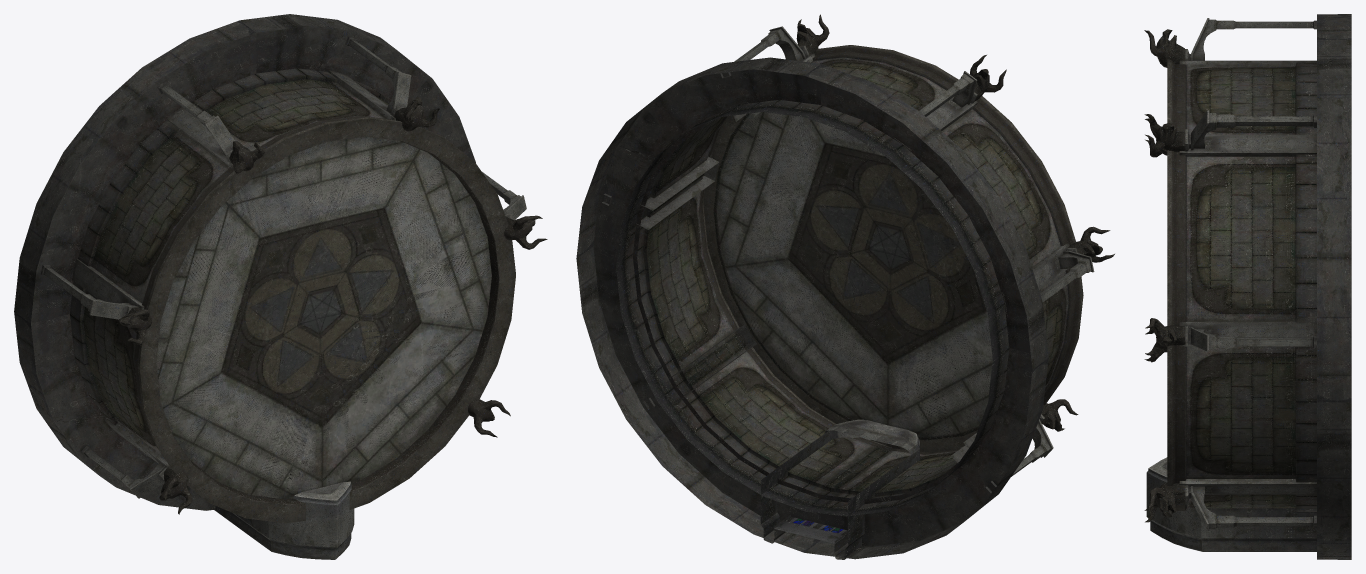
Rendered from pedestal.obj.
3 views of the same model, side by side, from view 1: azimuth 30°, elevation 25°; view 2: azimuth 150°, elevation 25°; view 3: azimuth 270°, elevation 25° (orthographic). The views are drawn at different scales.
Visible parts, largest first — view 1: obj5, obj17, obj3, obj2, obj19, obj16, obj13, obj12, obj22, obj1, obj23, obj11 (+6 smaller); view 2: obj17, obj5, obj3, obj2, obj20, obj16, obj12, obj4, obj13, obj19, obj22, obj1 (+3 smaller); view 3: obj17, obj3, obj2, obj23, obj20, obj21, obj12, obj14, obj15, obj13, obj8, obj11 (+3 smaller).
Boxes of the visible parts, left/top/right/bottom form: obj5: left=156, top=136, right=491, bottom=499; obj17: left=70, top=68, right=515, bottom=523; obj3: left=14, top=14, right=475, bottom=510; obj2: left=214, top=481, right=354, bottom=559; obj19: left=72, top=259, right=144, bottom=309; obj16: left=41, top=265, right=138, bottom=319; obj13: left=157, top=81, right=234, bottom=162; obj12: left=345, top=36, right=411, bottom=116; obj22: left=166, top=107, right=233, bottom=168; obj1: left=81, top=445, right=167, bottom=498; obj23: left=328, top=70, right=395, bottom=120; obj11: left=394, top=96, right=439, bottom=131; obj17: left=616, top=45, right=1083, bottom=516; obj5: left=713, top=112, right=992, bottom=440; obj3: left=576, top=57, right=1048, bottom=559; obj2: left=760, top=419, right=919, bottom=559; obj20: left=636, top=156, right=719, bottom=229; obj16: left=1040, top=248, right=1094, bottom=302; obj12: left=720, top=26, right=809, bottom=78; obj4: left=774, top=516, right=847, bottom=543; obj13: left=919, top=71, right=977, bottom=116; obj19: left=1001, top=243, right=1069, bottom=313; obj22: left=893, top=96, right=977, bottom=151; obj1: left=985, top=414, right=1053, bottom=492; obj17: left=1167, top=60, right=1316, bottom=514; obj3: left=1317, top=14, right=1351, bottom=559; obj2: left=1146, top=457, right=1316, bottom=551; obj23: left=1179, top=134, right=1316, bottom=156; obj20: left=1179, top=321, right=1316, bottom=346; obj21: left=1179, top=479, right=1316, bottom=494; obj12: left=1185, top=110, right=1316, bottom=151; obj14: left=1185, top=485, right=1316, bottom=531; obj15: left=1185, top=325, right=1316, bottom=351; obj13: left=1185, top=18, right=1316, bottom=60; obj8: left=1144, top=482, right=1185, bottom=522; obj11: left=1144, top=114, right=1185, bottom=152.
Bounding box in the file's own units: 232 × 232 × 88.01.
Materials: 1 (1 with a texture image).
